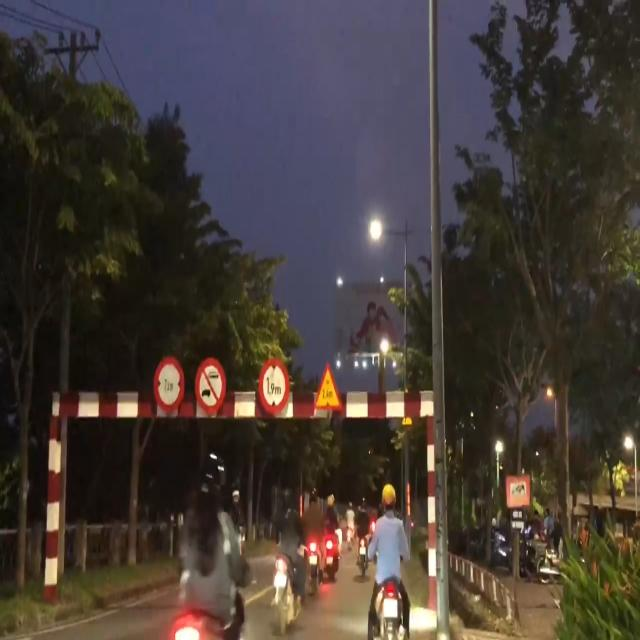Bien bao cam xe oto khach va xe oto tai: (193, 349, 226, 418)
Bien bao chieu cao tinh khong thuc te: (311, 354, 350, 417)
Bien bao han che chieu cao: (256, 350, 290, 422)
